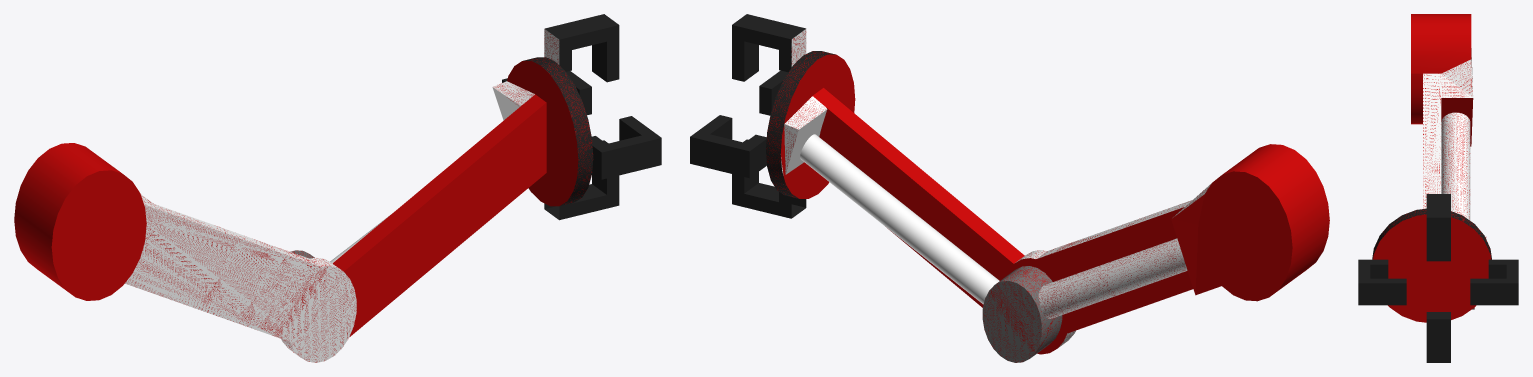
File: arm.dae
The picture shows the model from 3 angles, left to right: view 1: azimuth 30°, elevation 25°; view 2: azimuth 150°, elevation 25°; view 3: azimuth 270°, elevation 25°; orthographic projection. The views are drawn at different scales.
Parts seen in each view (by area): view 1: group_0 (×7); view 2: group_0 (×12); view 3: group_0 (×9).
Part boxes in pixels (box(x1,y1,x2,y2)): group_0 (×7): box(14, 14, 661, 362); group_0 (×12): box(690, 14, 1329, 362); group_0 (×9): box(1358, 14, 1518, 362).
Bounding box in the file's own units: 34.99 × 10.46 × 15.18.
